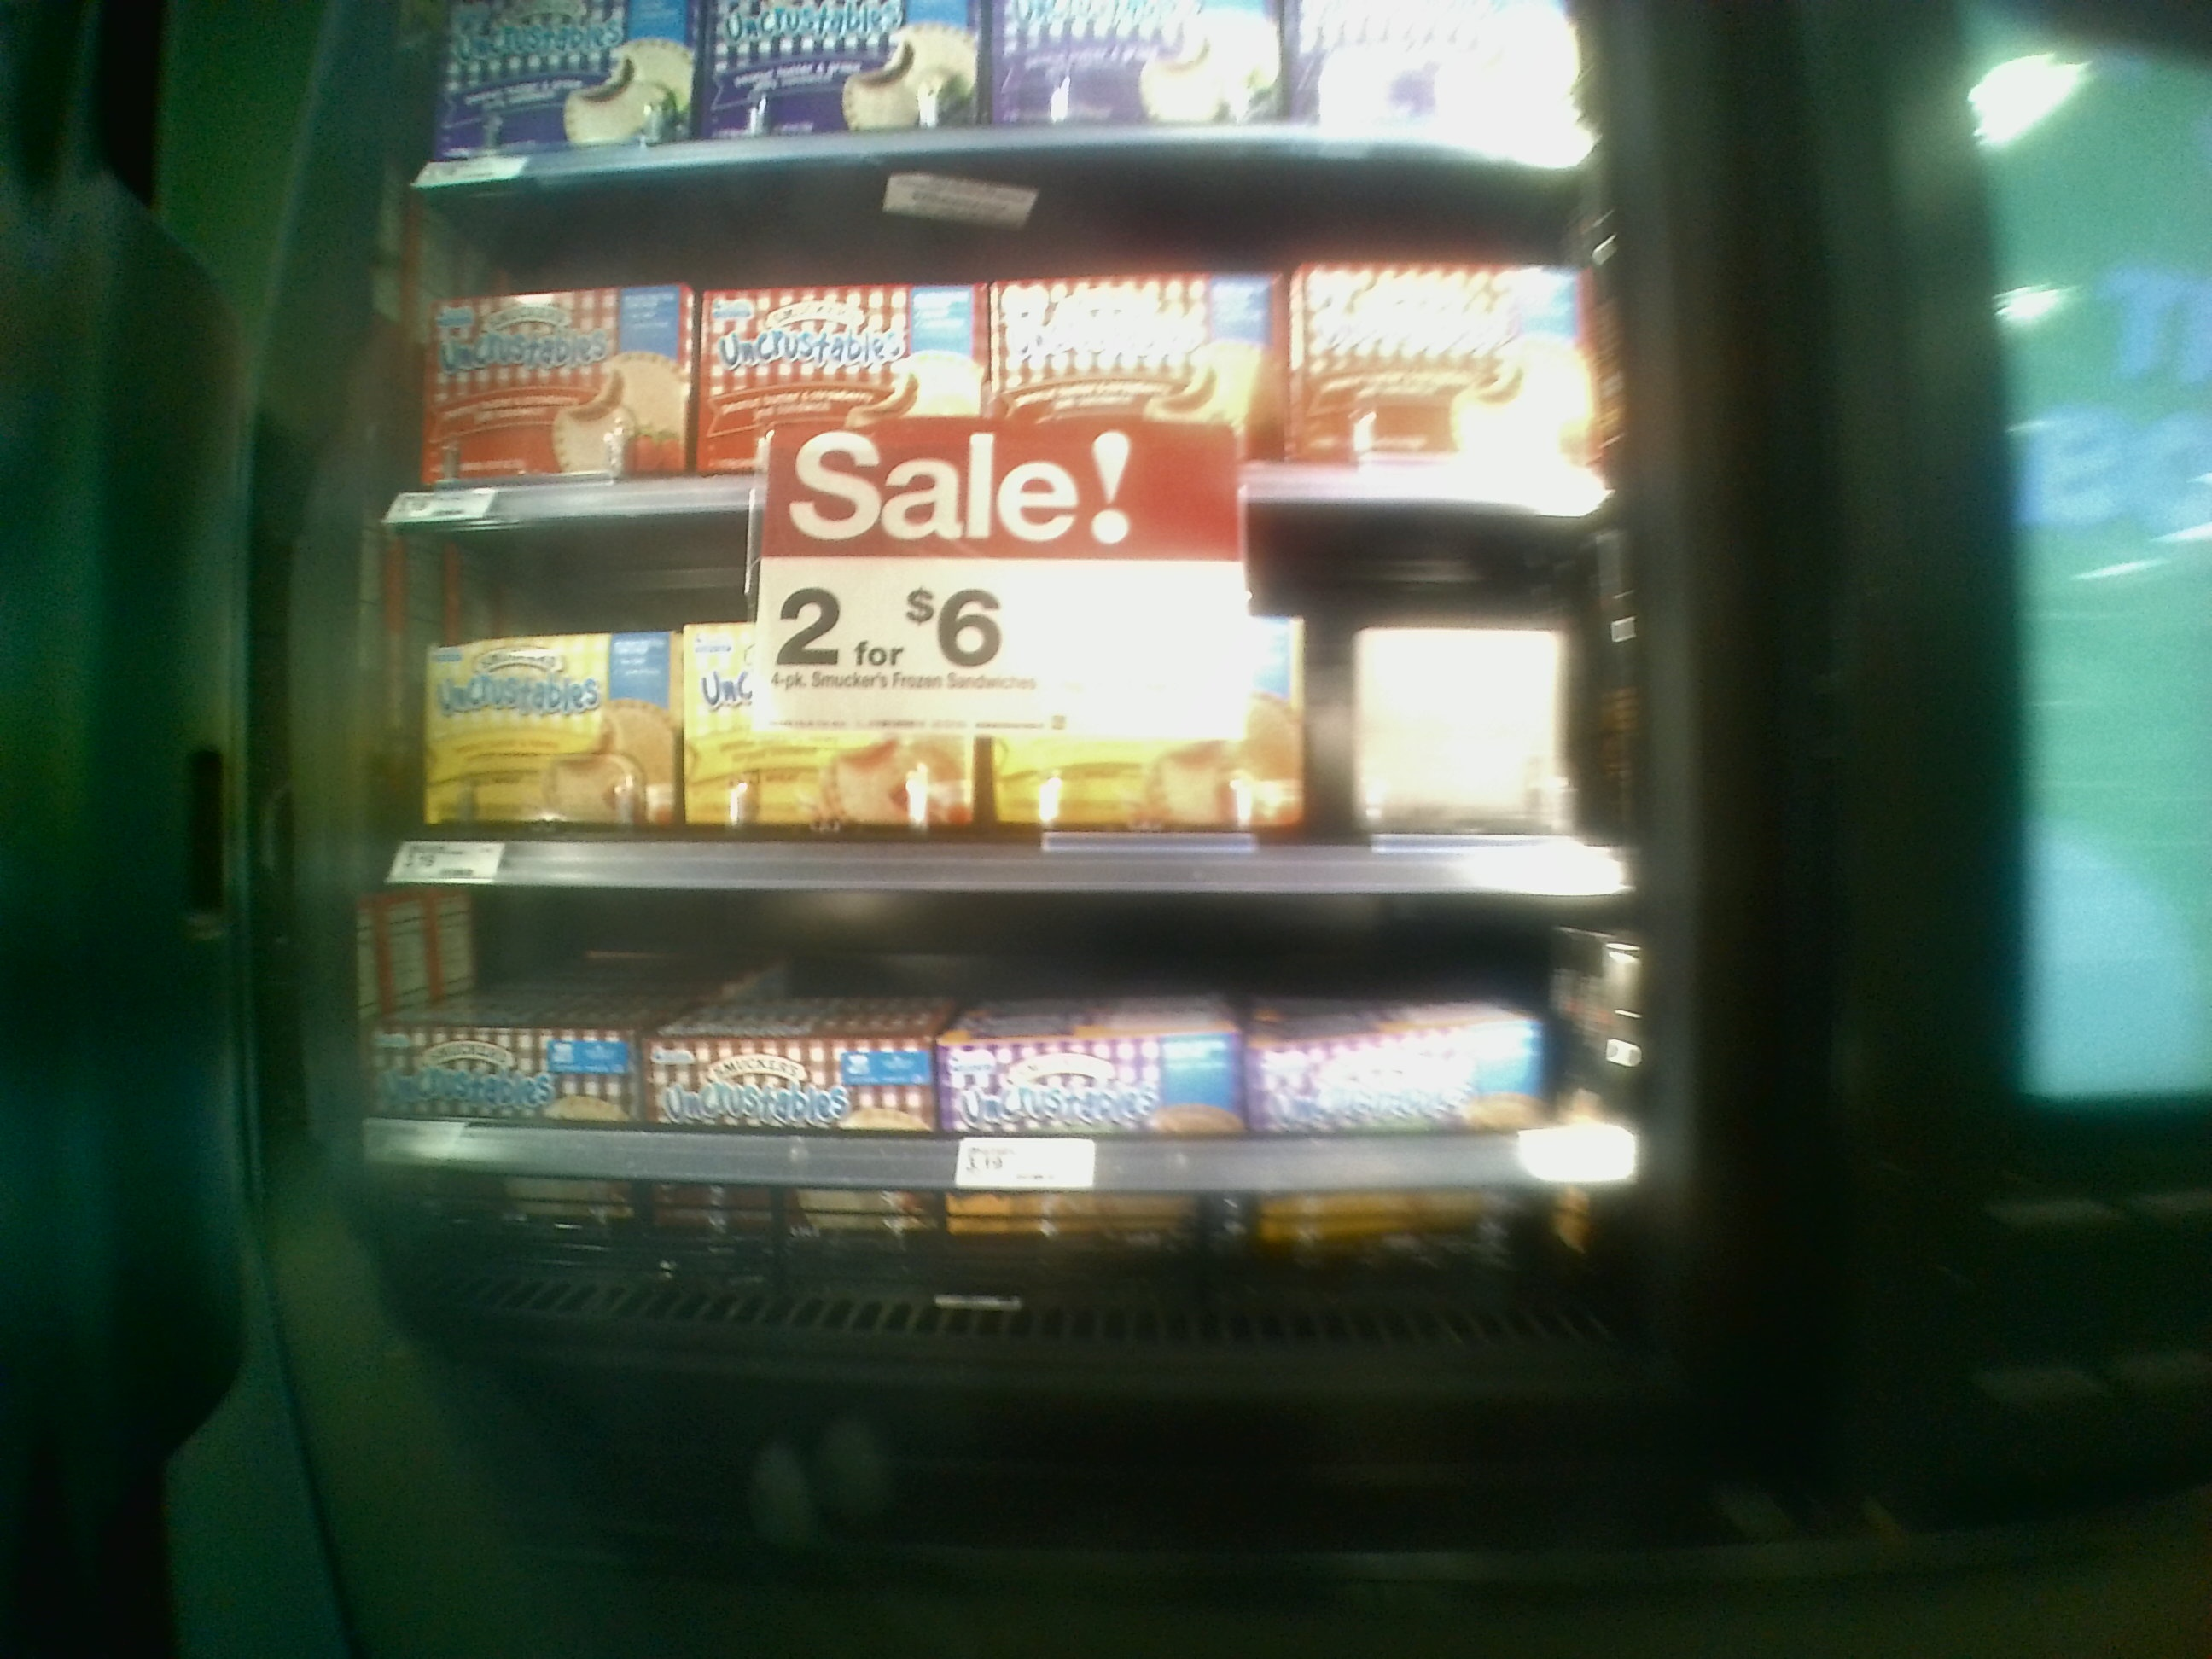shelf: (376, 877, 1613, 1328), (383, 509, 1609, 889), (409, 178, 1592, 504)
